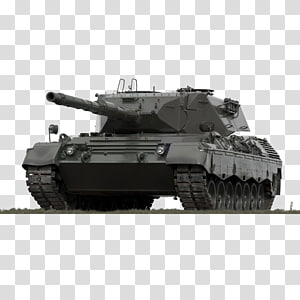Battle Tank: (21, 87, 283, 212)
